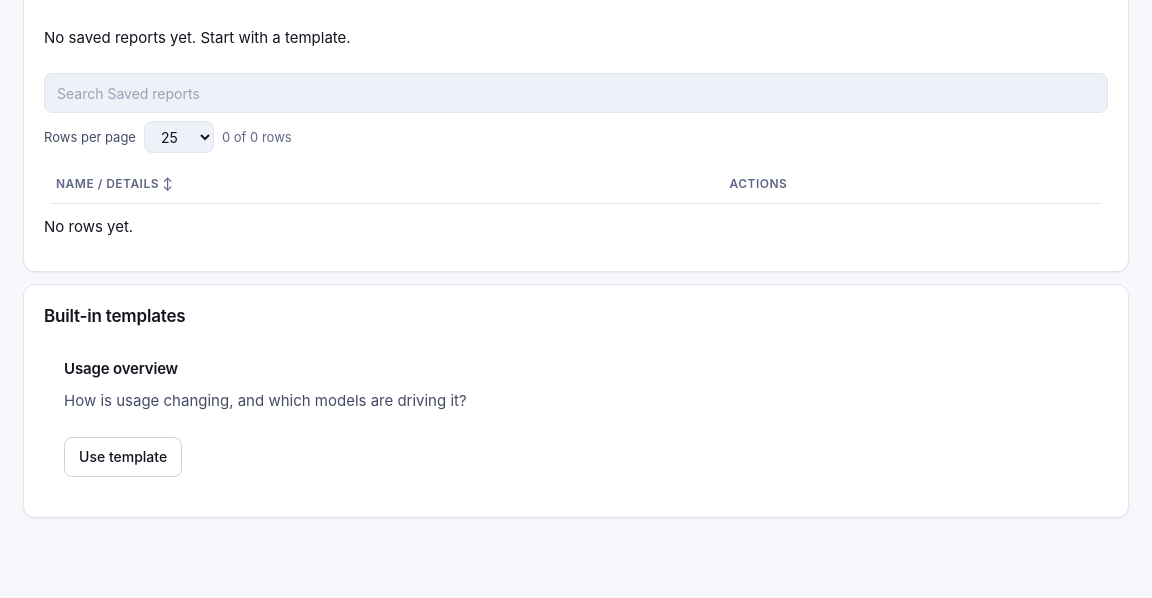
Test: gives builder controls exact accessible names without option text or hints
(page scrolled)
What coordinates should you click on to do the following:
click the button with aria-label "Use Usage overview"
I would click on:
 (123, 457)
Its box is [64, 437, 182, 477].
(page scrolled)
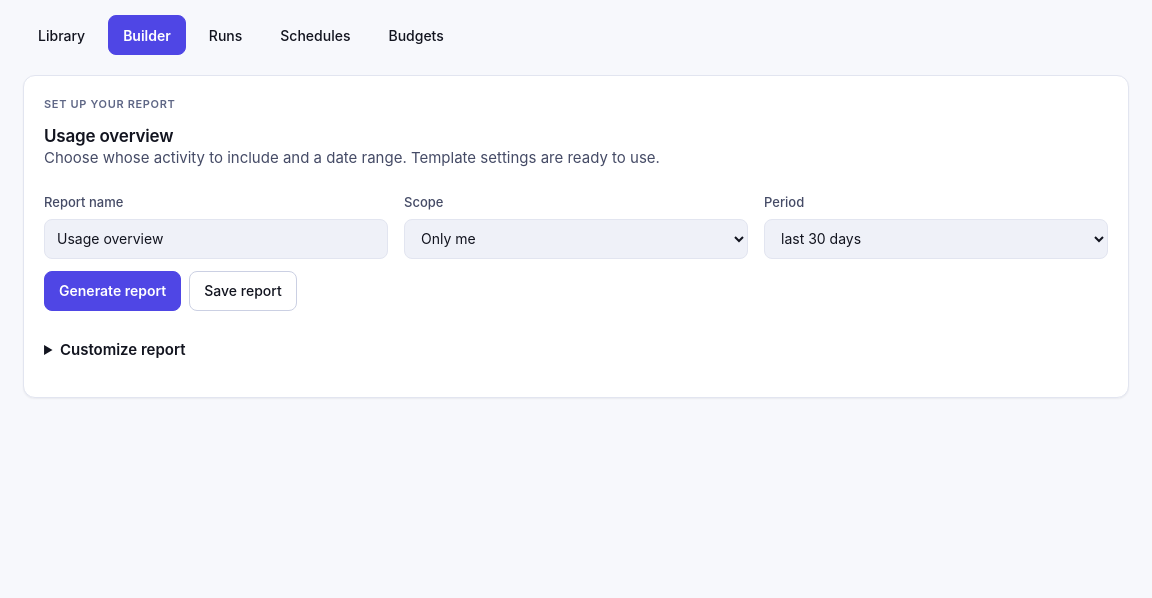
What coordinates should you click on to do the following:
click the heading "Customize report"
I would click on:
 (123, 349)
Its box is [60, 340, 186, 359].
(page scrolled)
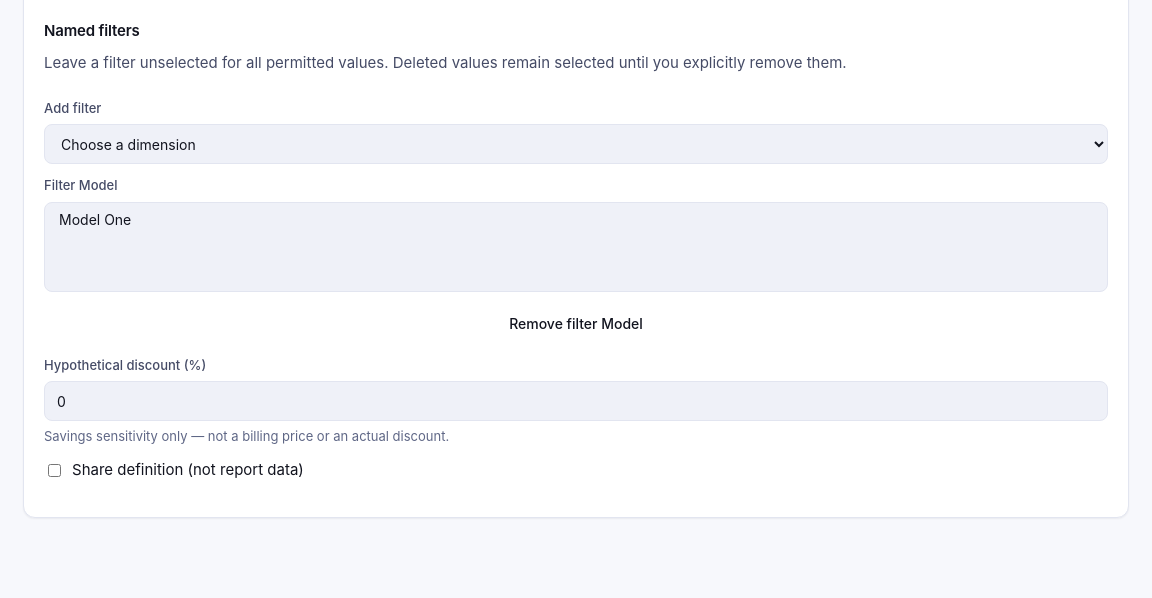
Check: the number field labelled "Hypothetical discount (%)" is shown, box [44, 381, 1108, 421]
Check: the dropdown labelled "Filter Model" is shown, box [44, 202, 1108, 292]
